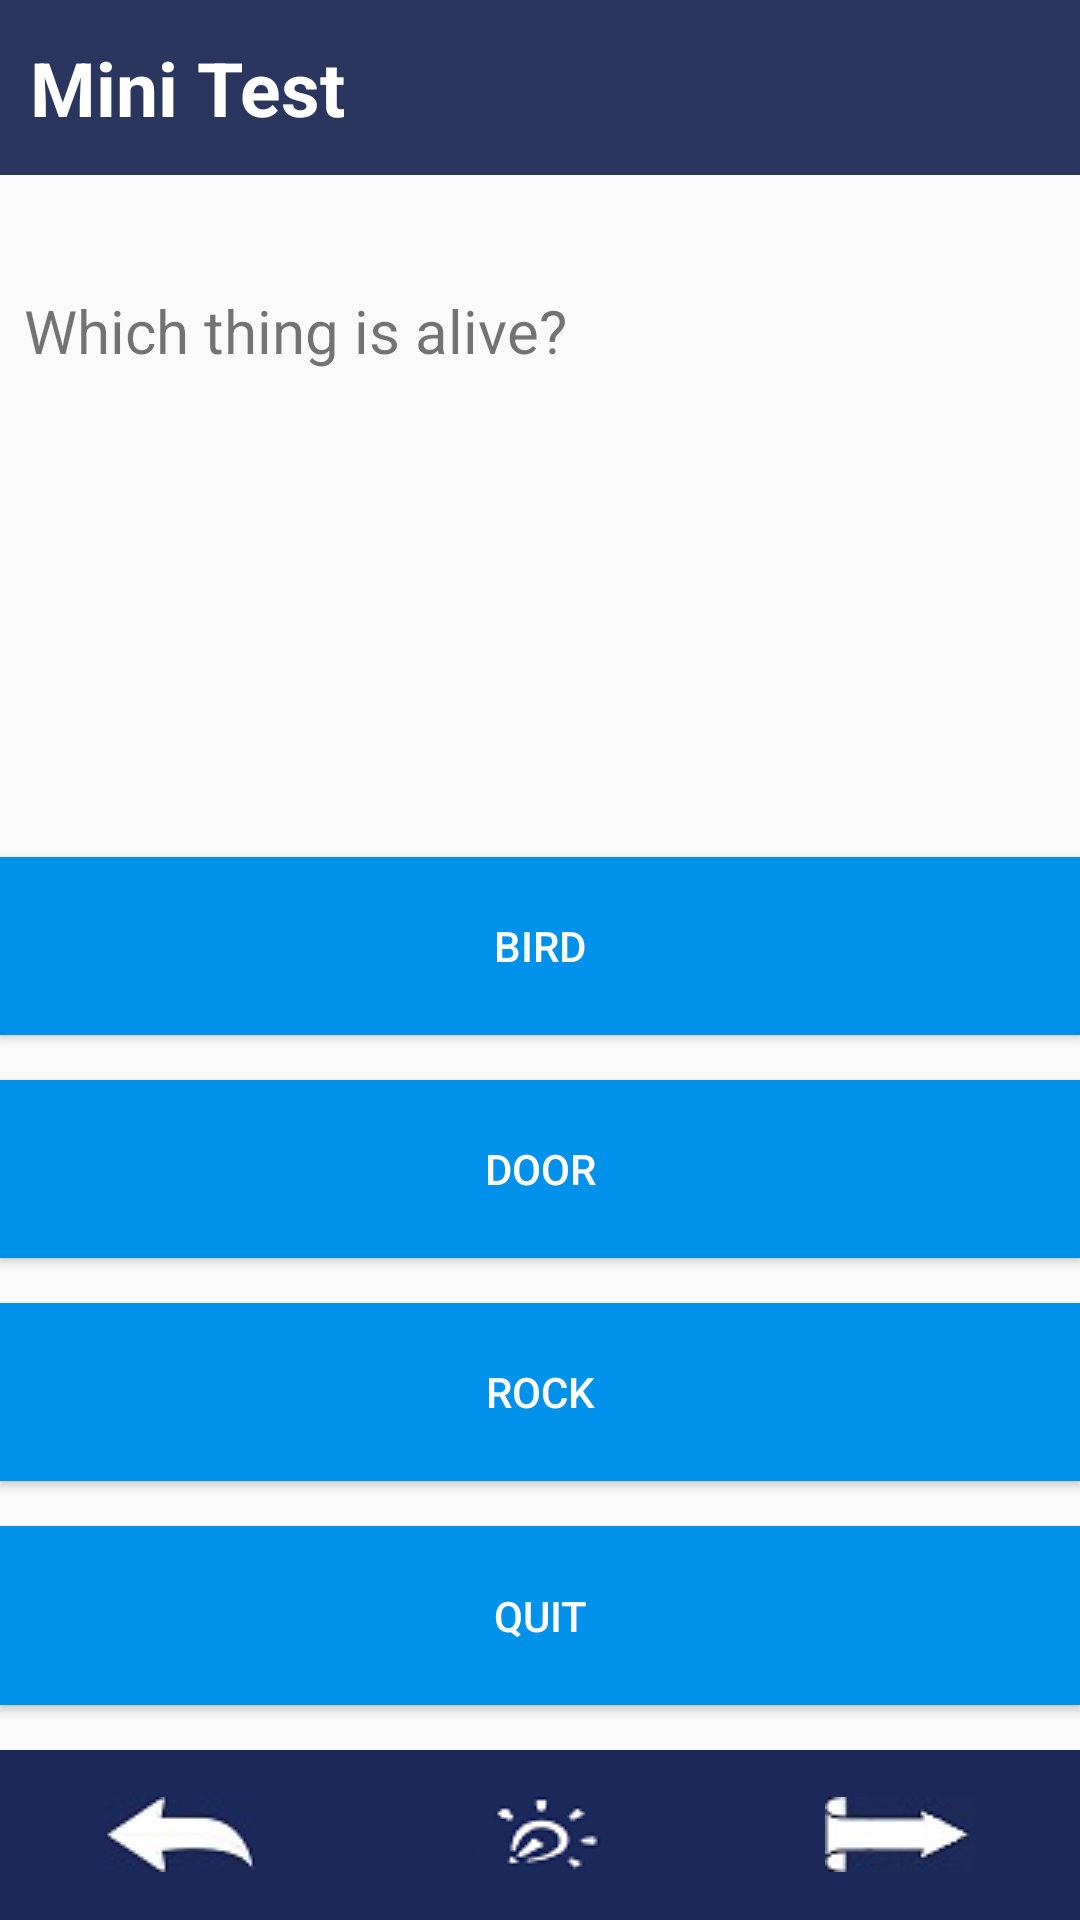

Point at icon controls on the screen. Image size 1080x1920, points as (x=x, y=y).
imageback: (x=181, y=1834)
imageforward: (x=897, y=1834)
